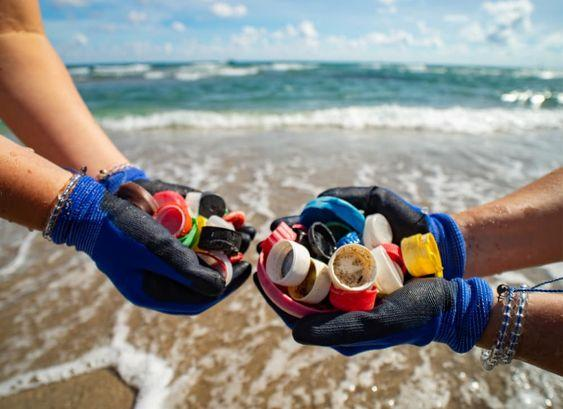HDPE: (326, 243, 380, 292), (264, 238, 312, 288), (399, 232, 444, 279), (290, 257, 329, 306), (370, 244, 404, 294), (196, 223, 245, 257), (154, 198, 193, 236)
